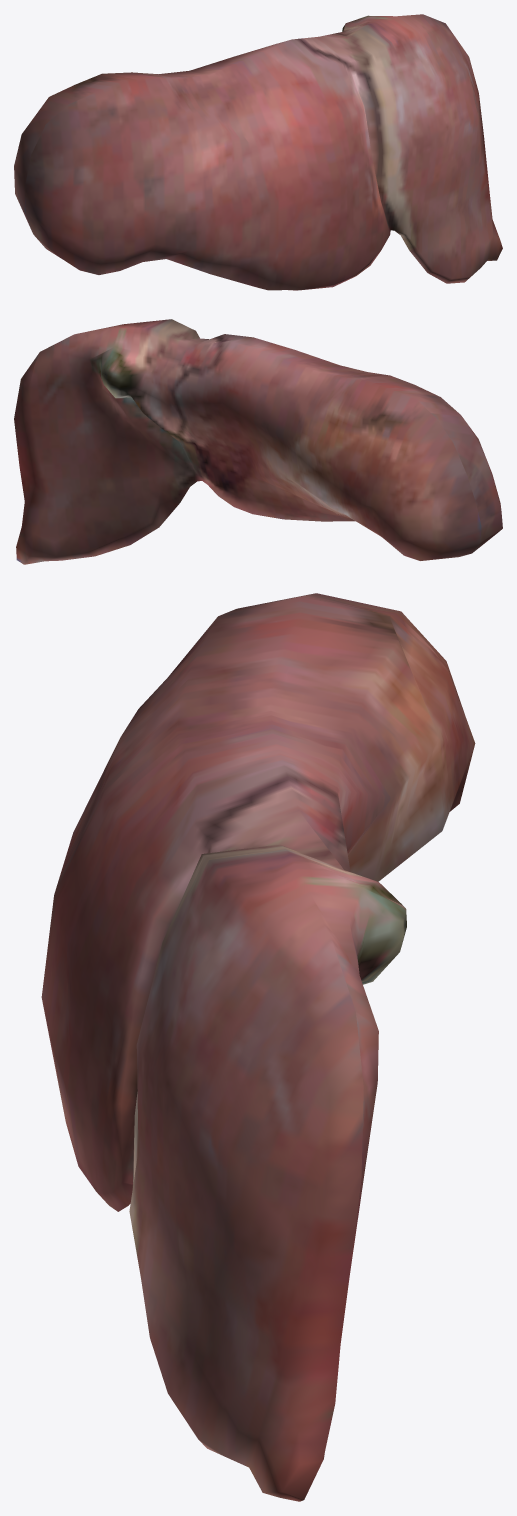
File: eqp_organ_liver_s01_l0.fbx
3 views of the same model, one above another, from view 1: azimuth 30°, elevation 25°; view 2: azimuth 150°, elevation 25°; view 3: azimuth 270°, elevation 25° (orthographic). The views are drawn at different scales.
Parts seen in each view (by area): view 1: mesh_node; view 2: mesh_node; view 3: mesh_node.
Boxes of the visible parts, box(x1,y1,x2,y2) form: mesh_node: box(14, 14, 502, 290); mesh_node: box(14, 319, 502, 564); mesh_node: box(41, 593, 475, 1501).
Size of the model in its own units: 0.3186 by 0.1746 by 0.1274.
